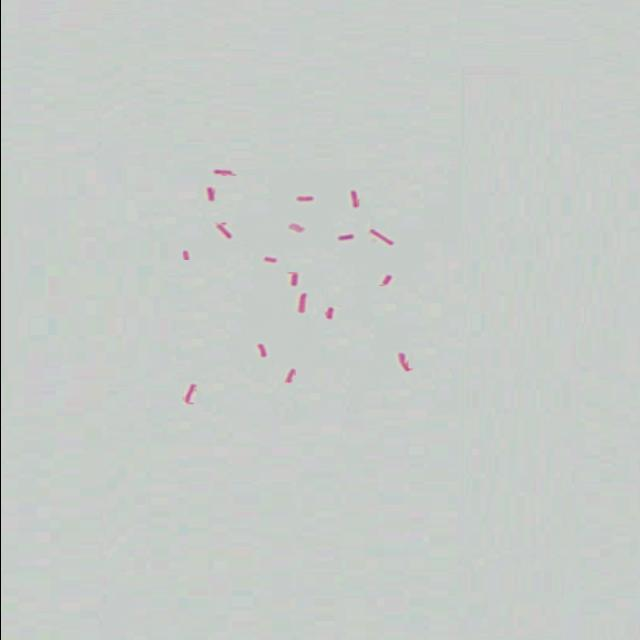E-coli: (209, 166, 239, 182), (364, 229, 394, 245), (199, 184, 221, 205), (215, 221, 235, 244), (393, 353, 413, 376), (280, 365, 300, 387), (293, 289, 309, 315), (251, 339, 269, 362), (180, 382, 196, 406), (321, 302, 339, 323), (345, 186, 361, 209), (333, 229, 357, 243), (177, 247, 193, 265), (377, 272, 393, 290), (260, 253, 280, 267), (284, 221, 307, 233), (292, 192, 314, 204), (284, 271, 300, 287)
